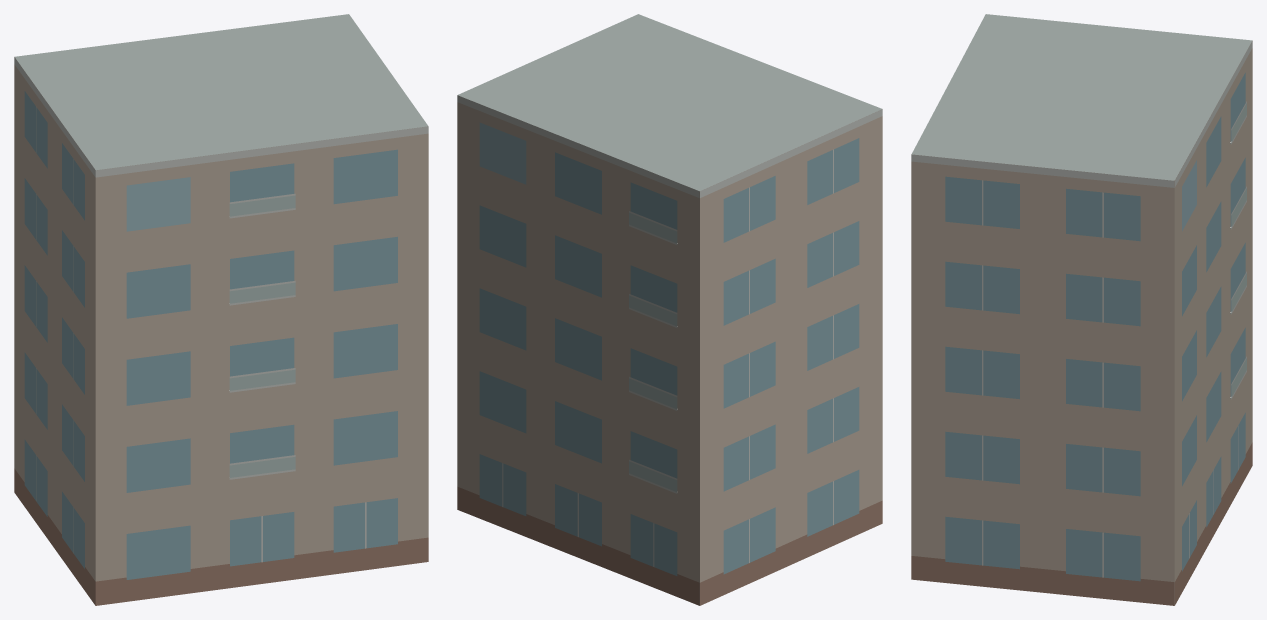
The model's file is survey-upis-32947081.glb.
3 renders of one model, left to right at view 1: azimuth 30°, elevation 25°; view 2: azimuth 150°, elevation 25°; view 3: azimuth 270°, elevation 25°, orthographic. The views are drawn at different scales.
Parts seen in each view (by area): view 1: survey-upis-32947081.tmp; view 2: survey-upis-32947081.tmp; view 3: survey-upis-32947081.tmp.
Boxes of the visible parts, x1=… form: survey-upis-32947081.tmp: x1=14, y1=14, x2=428, y2=605; survey-upis-32947081.tmp: x1=457, y1=14, x2=882, y2=605; survey-upis-32947081.tmp: x1=911, y1=14, x2=1252, y2=605.
Size of the model in its own units: 12.25 by 14.55 by 10.59.
